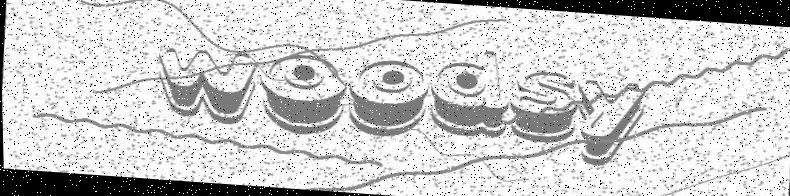d: (426, 43, 513, 140)
o: (254, 49, 349, 138), (345, 57, 431, 139)
s: (503, 63, 582, 147)
w: (150, 46, 259, 128)
y: (571, 73, 651, 173)
